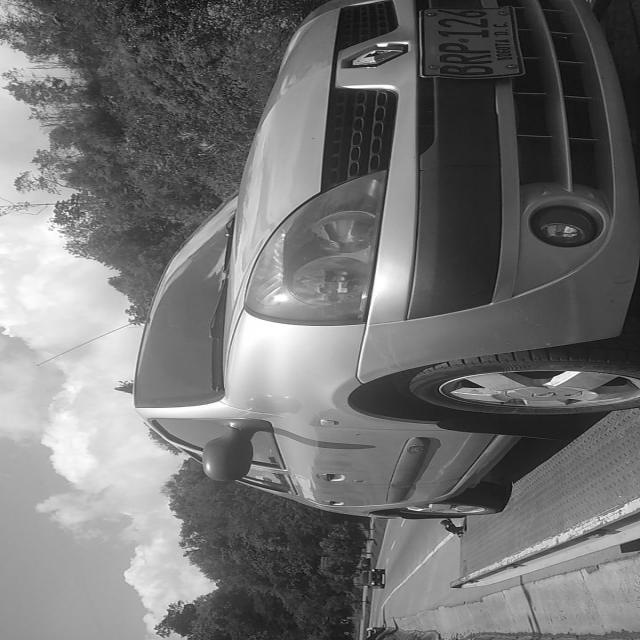plate: (410, 3, 532, 82)
